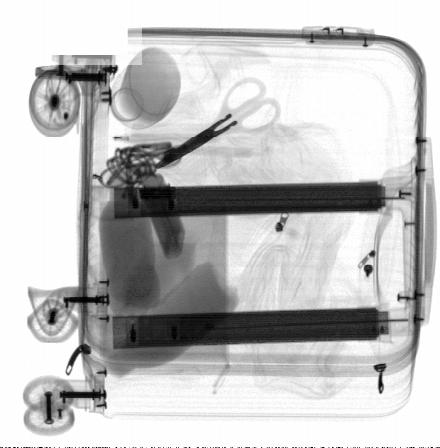Scissors: (152, 74, 281, 171)
